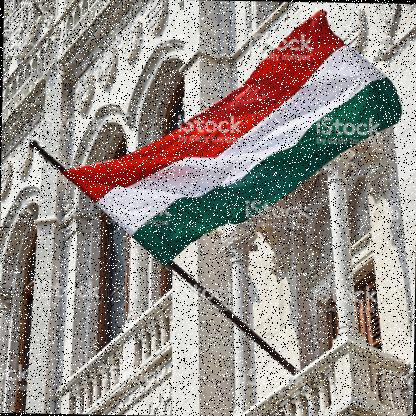hu: (50, 12, 405, 273)
